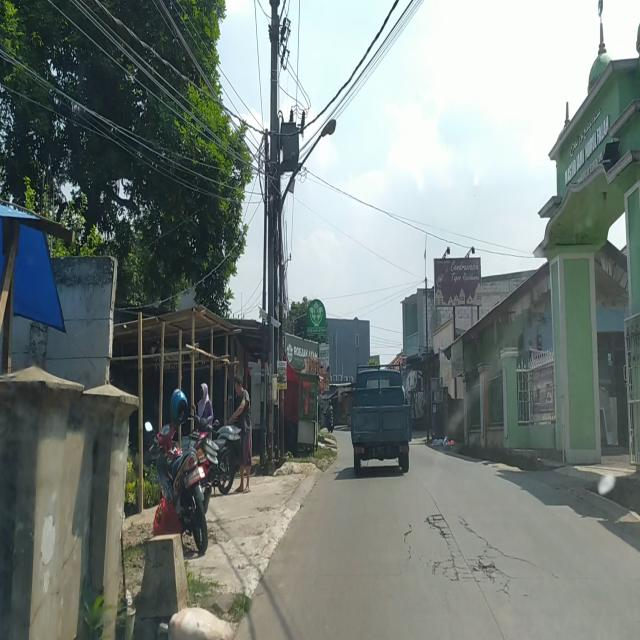Drain Hole: (398, 512, 523, 596)
